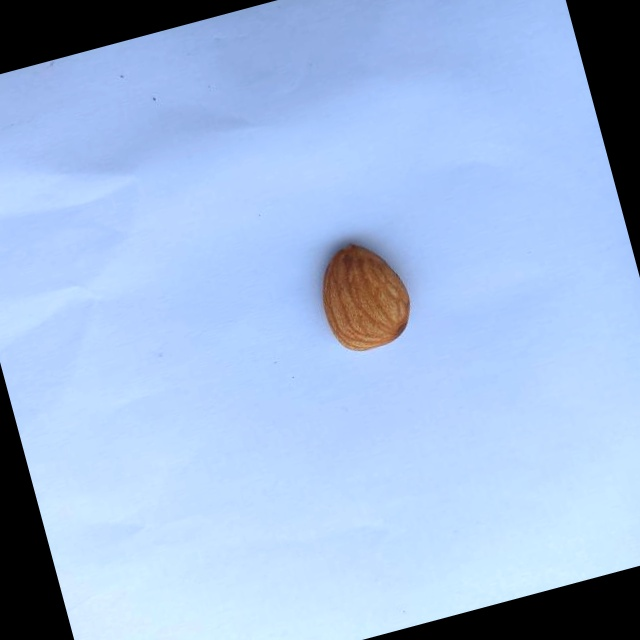grade1: (298, 224, 427, 367)
